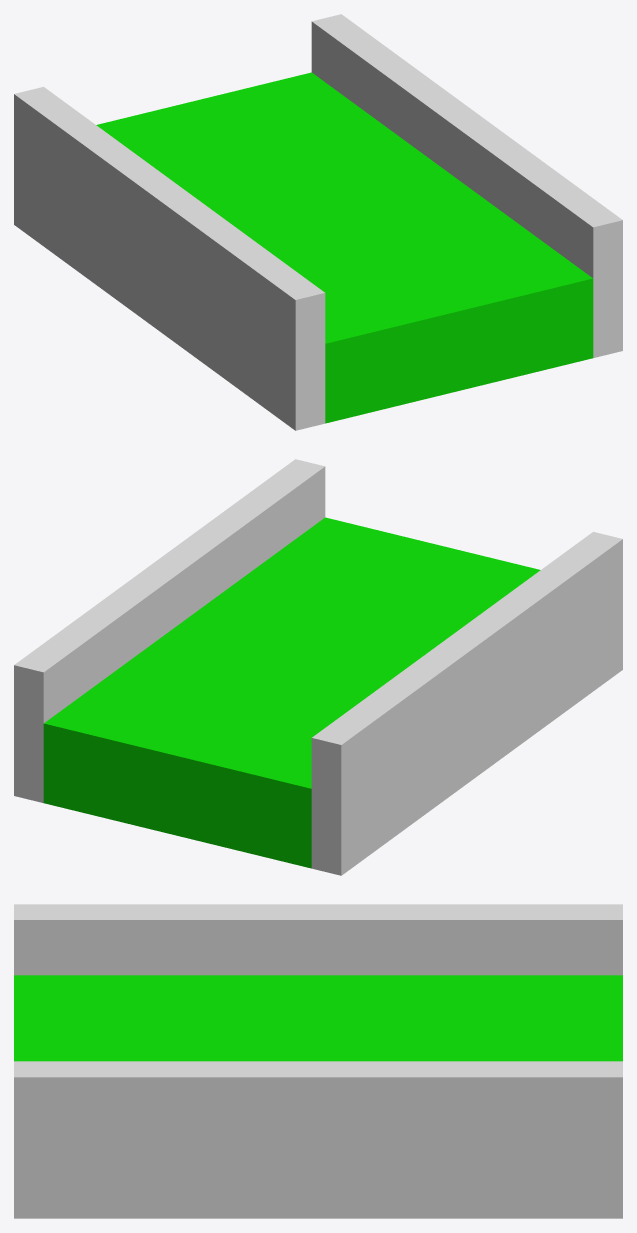
File: Floor.dae
3 views of the same model, one above another, from view 1: azimuth 30°, elevation 25°; view 2: azimuth 150°, elevation 25°; view 3: azimuth 270°, elevation 25° (orthographic). The views are drawn at different scales.
Visible parts, largest first — view 1: Floor; view 2: Floor; view 3: Floor.
Boxes of the visible parts, x1,y1,x2,y2 form: Floor: [14, 14, 622, 430]; Floor: [14, 459, 622, 875]; Floor: [14, 904, 622, 1218].
Size of what is drawn, in the model's own units: 8.51 by 12.67 by 3.25.
